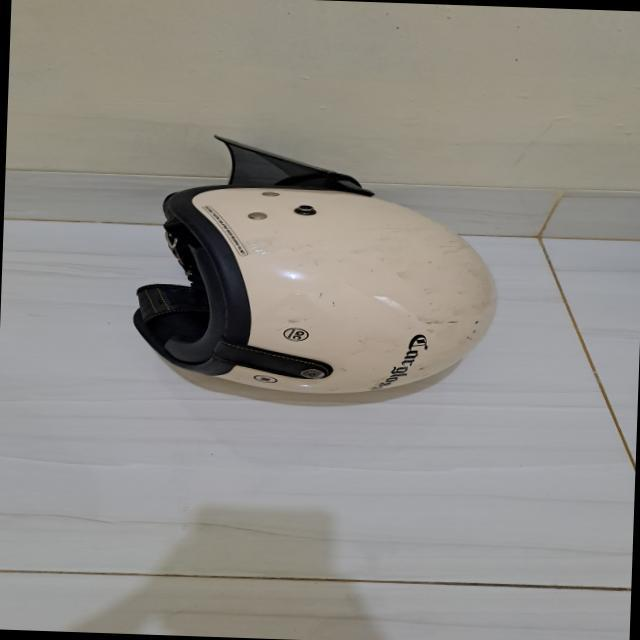Helm: (120, 114, 510, 409)
